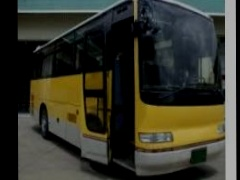bus: (28, 0, 225, 176)
